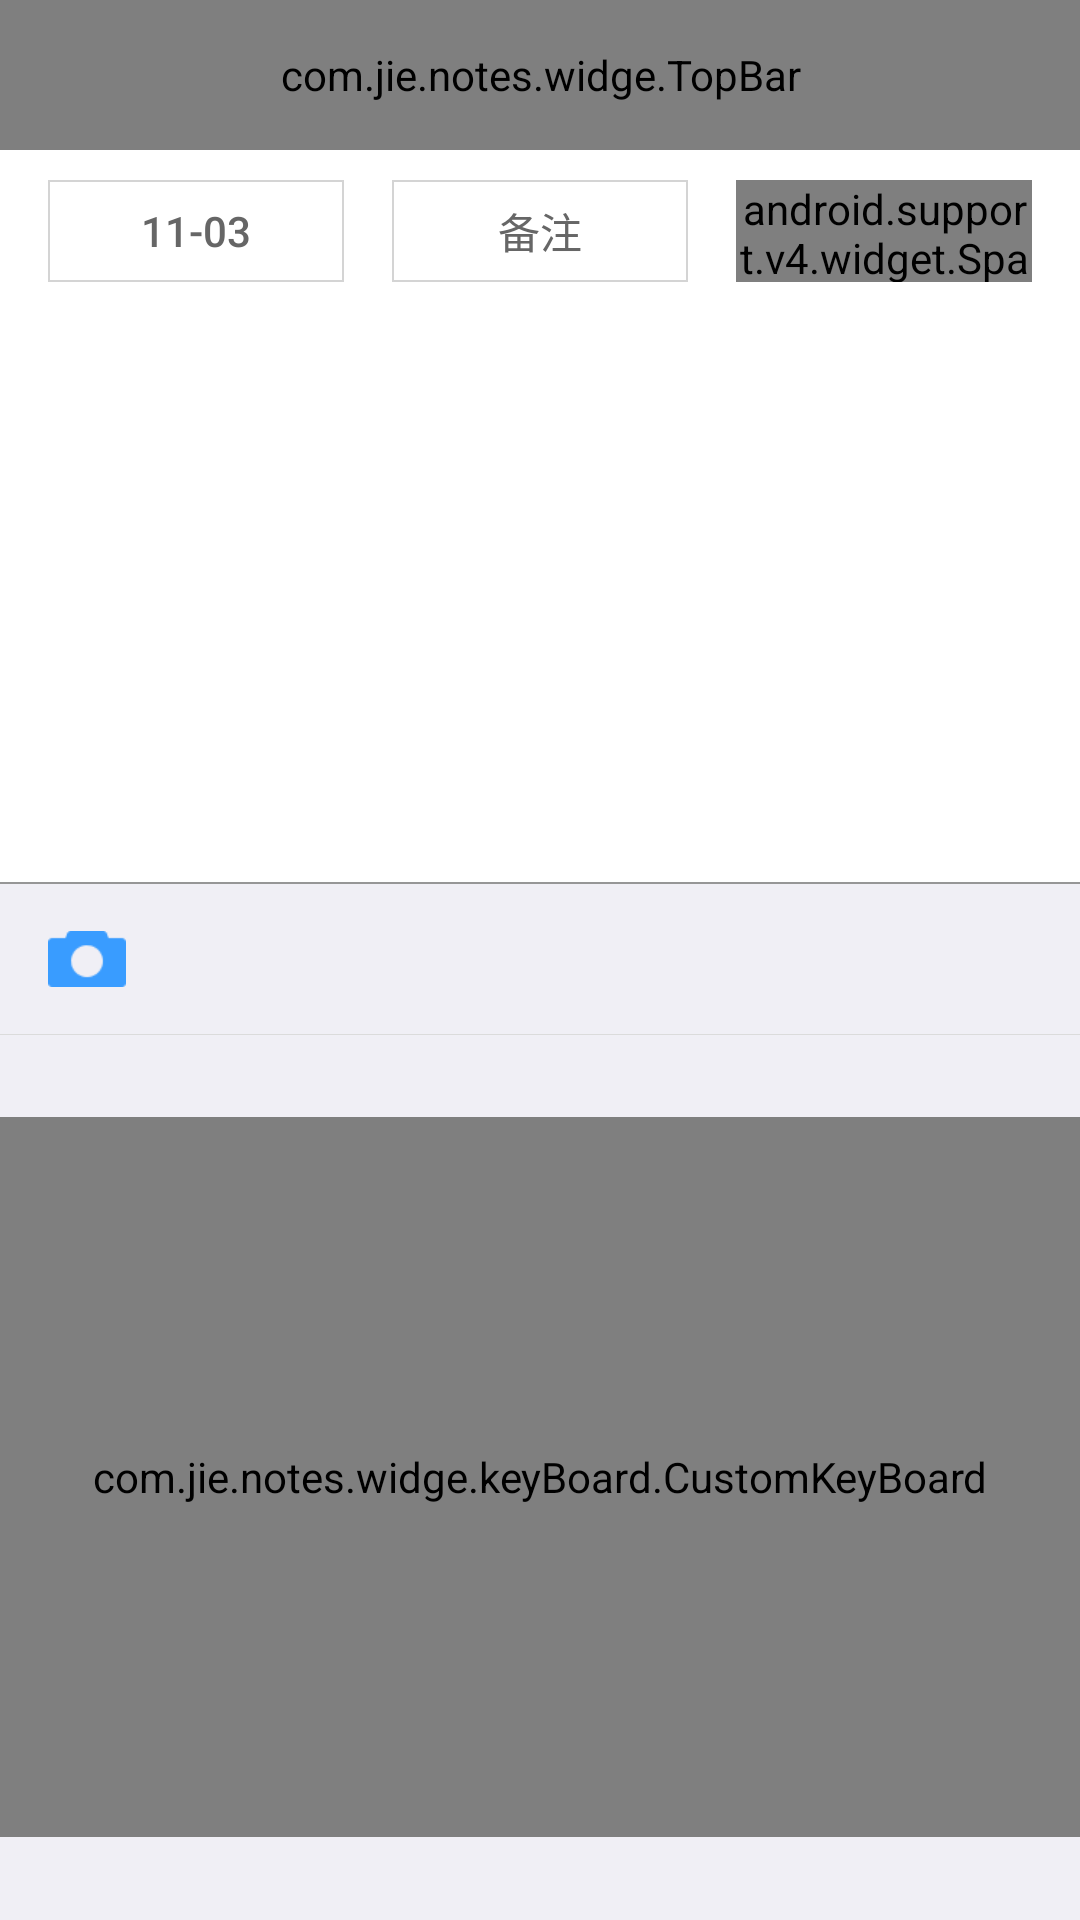

Screen size 1080×1920. Icon name, then its box in pixels as box(x1, y1, x2, y2):
camera: box(48, 931, 126, 987)
